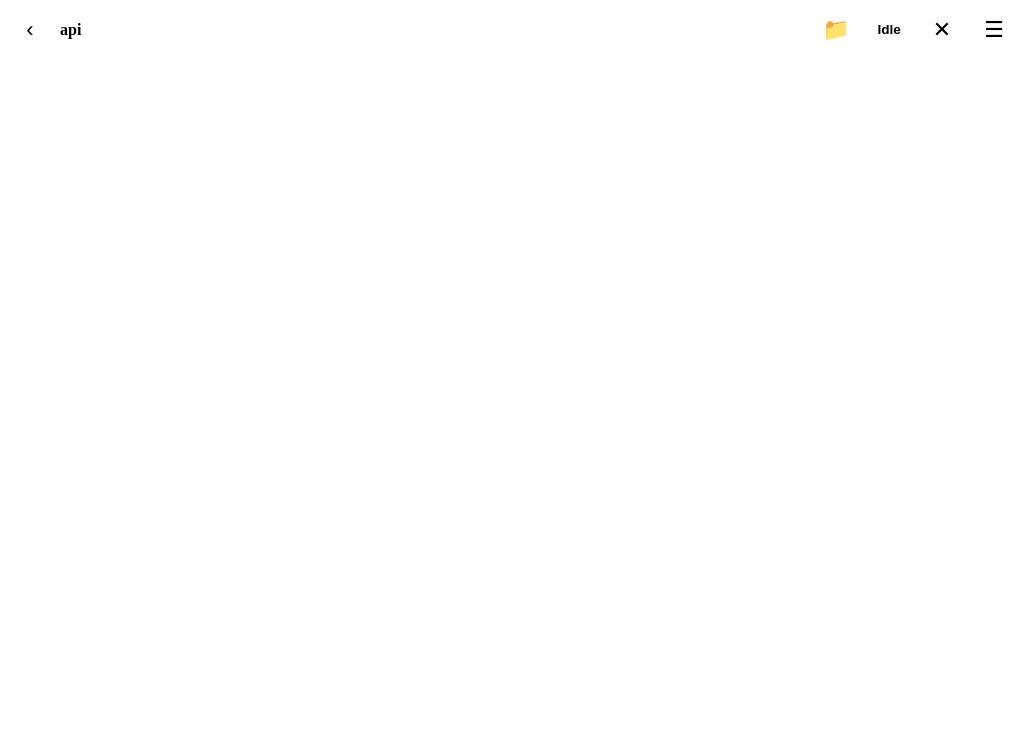
Test: TerminalView › disables zoom in at the maximum font size
Click the button named "Menu" at (994,30), box [972,8,1016,52]
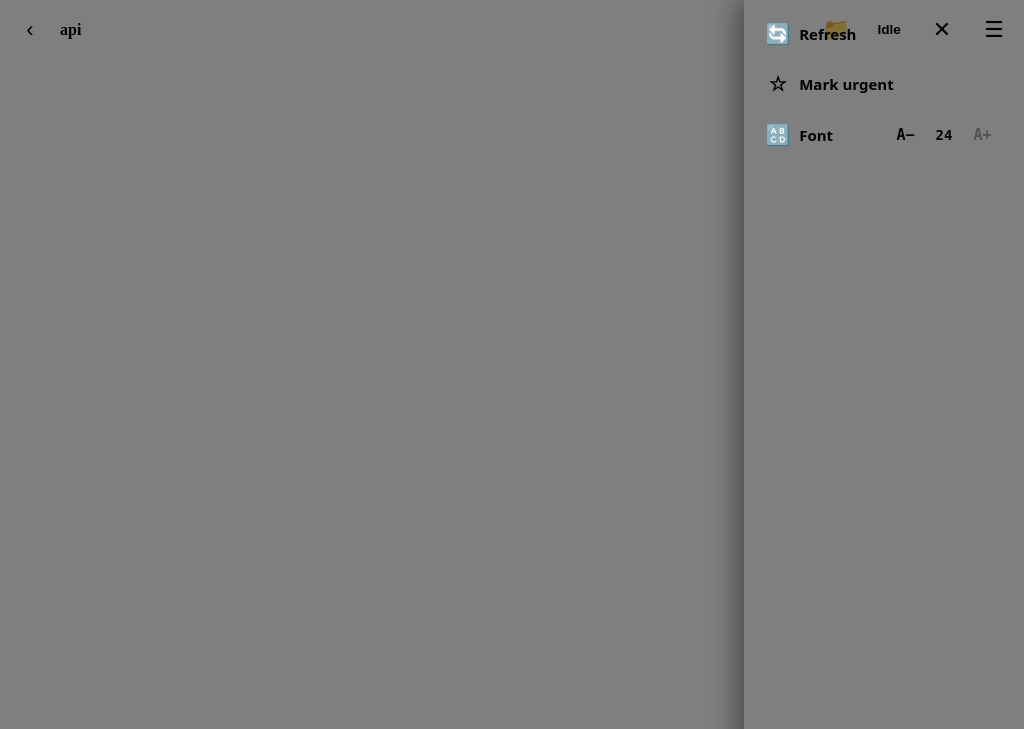
Result: the button named "zoom in" is disabled at [962,117,1002,153]
Result: the button named "zoom out" is enabled at [886,117,926,153]
